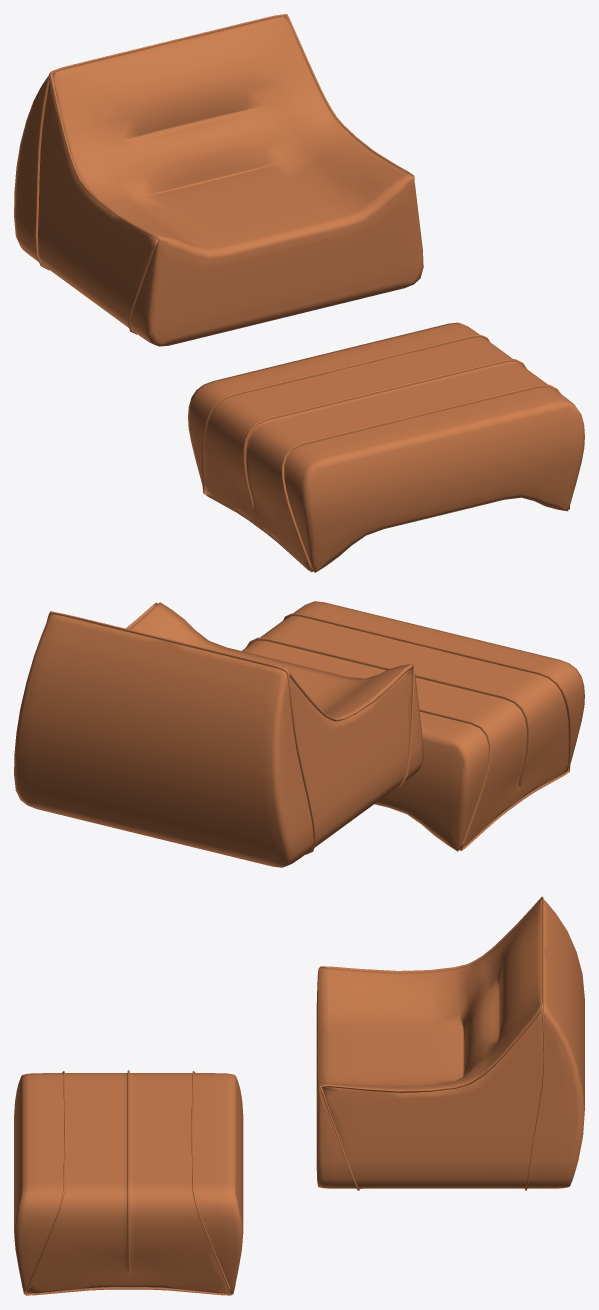
File: Chair.FBX
The picture shows the model from 3 angles, top to bottom: view 1: azimuth 30°, elevation 25°; view 2: azimuth 150°, elevation 25°; view 3: azimuth 270°, elevation 25°; orthographic projection. The views are drawn at different scales.
Visible parts, largest first — view 1: Box01, Box03; view 2: Box01, Box03; view 3: Box01, Box03.
Boxes of the visible parts, bbox=[...] form: Box01: bbox=[14, 14, 423, 346]; Box03: bbox=[188, 322, 584, 572]; Box01: bbox=[14, 602, 423, 867]; Box03: bbox=[242, 601, 584, 851]; Box01: bbox=[316, 896, 584, 1190]; Box03: bbox=[14, 1070, 243, 1295].
Bounding box in the file's own units: 809 × 811 × 1469.
